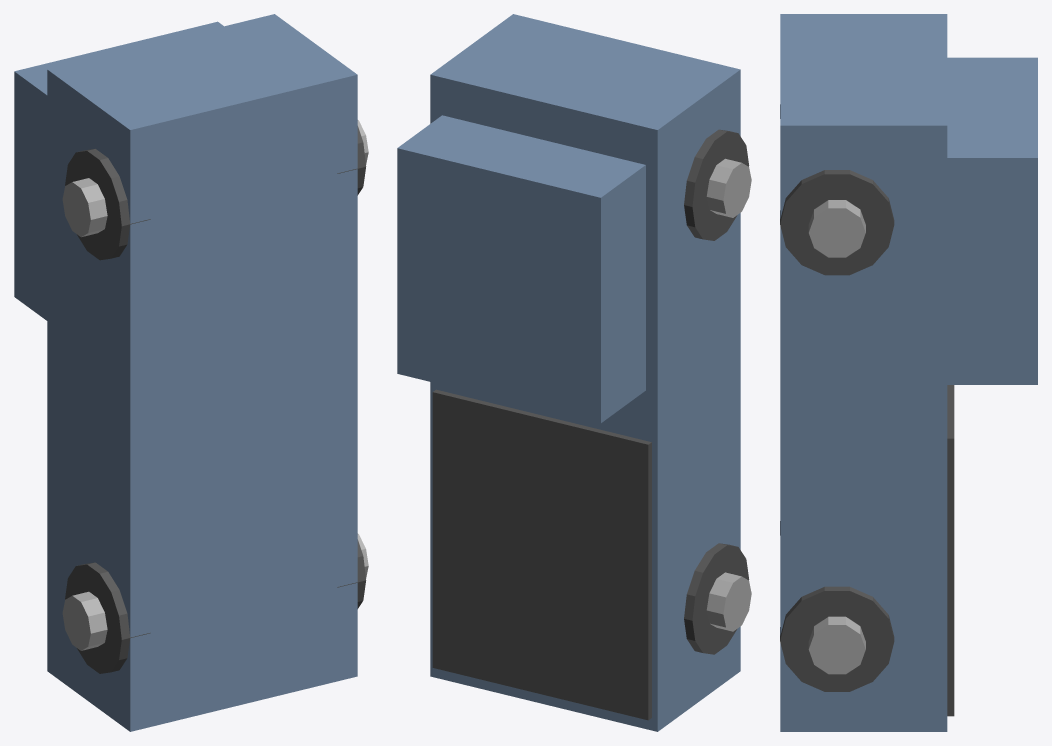
The model's file is pickup_crew.glb.
The picture shows the model from 3 angles, left to right: view 1: azimuth 30°, elevation 25°; view 2: azimuth 150°, elevation 25°; view 3: azimuth 270°, elevation 25°; orthographic projection.
Visible parts, largest first — view 1: body, cab, wheel_-1_1, wheel_-1_-1, hub_-1_1, hub_-1_-1; view 2: body, cab, bed, wheel_-1_-1, wheel_-1_1, hub_-1_1, hub_-1_-1; view 3: body, cab, wheel_1_1, wheel_1_-1, hub_1_-1, hub_1_1, bed.
Boxes of the visible parts, left/top/right/bottom form: body: left=47, top=14, right=357, bottom=731; cab: left=14, top=21, right=223, bottom=320; wheel_-1_1: left=65, top=149, right=150, bottom=260; wheel_-1_-1: left=65, top=562, right=150, bottom=673; hub_-1_1: left=62, top=178, right=107, bottom=237; hub_-1_-1: left=62, top=591, right=107, bottom=650; body: left=430, top=14, right=740, bottom=731; cab: left=397, top=115, right=645, bottom=423; bed: left=432, top=389, right=651, bottom=720; wheel_-1_-1: left=684, top=543, right=749, bottom=654; wheel_-1_1: left=684, top=129, right=749, bottom=240; hub_-1_1: left=706, top=158, right=751, bottom=217; hub_-1_-1: left=706, top=572, right=751, bottom=631; body: left=780, top=14, right=947, bottom=731; cab: left=947, top=57, right=1037, bottom=384; wheel_1_1: left=780, top=170, right=894, bottom=275; wheel_1_-1: left=780, top=586, right=894, bottom=691; hub_1_-1: left=808, top=616, right=865, bottom=674; hub_1_1: left=808, top=200, right=865, bottom=257; bed: left=947, top=385, right=954, bottom=716.
Bounding box in the file's own units: 2.32 × 4.8 × 1.85.
